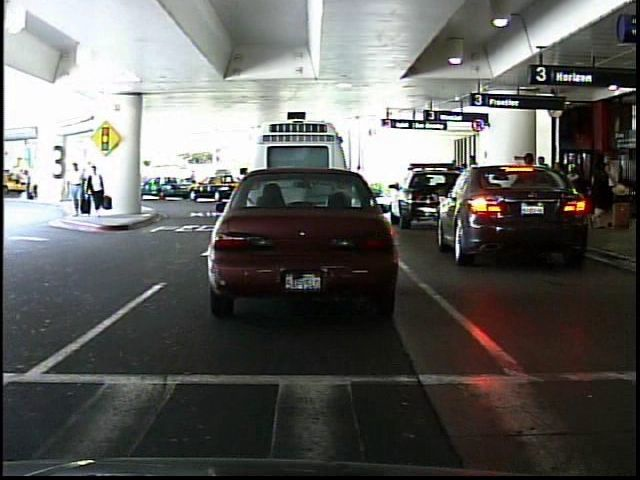person: (66, 157, 89, 218), (86, 160, 109, 221), (348, 158, 370, 204), (23, 165, 38, 204), (185, 166, 203, 195)
